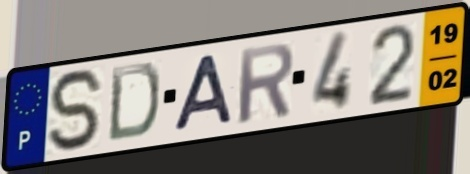2: (368, 22, 419, 109)
4: (309, 27, 356, 115)
A: (170, 52, 236, 135)
D: (105, 61, 163, 144)
R: (236, 40, 297, 127)
S: (46, 67, 108, 154)
